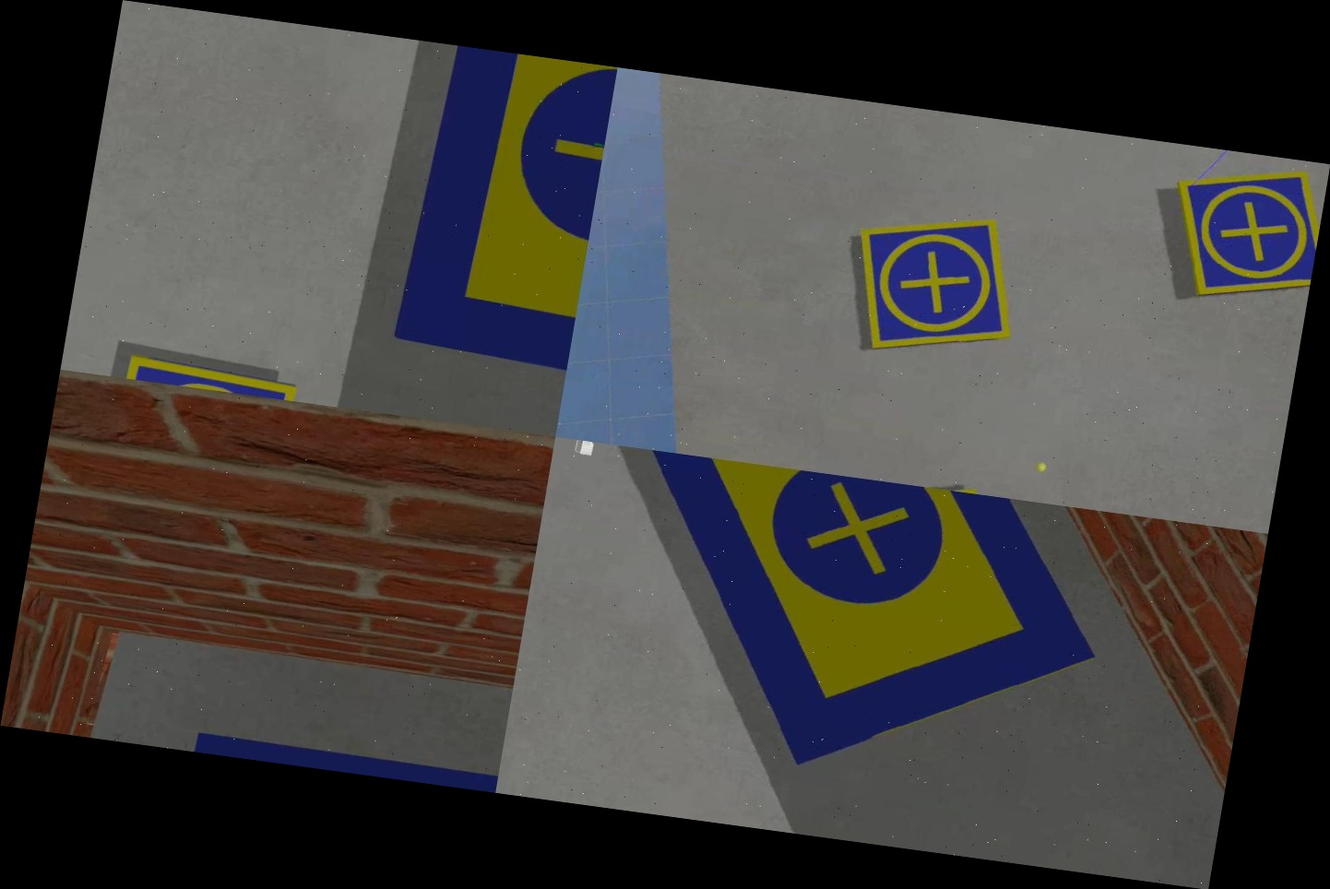large_base: (580, 447, 1130, 815), (389, 43, 617, 373)
small_base: (833, 199, 1041, 373), (1158, 155, 1327, 314), (118, 351, 298, 401)
